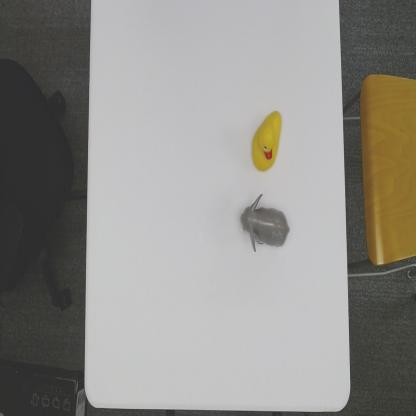Duck: (251, 110, 283, 174)
Elephant: (240, 192, 291, 254)
